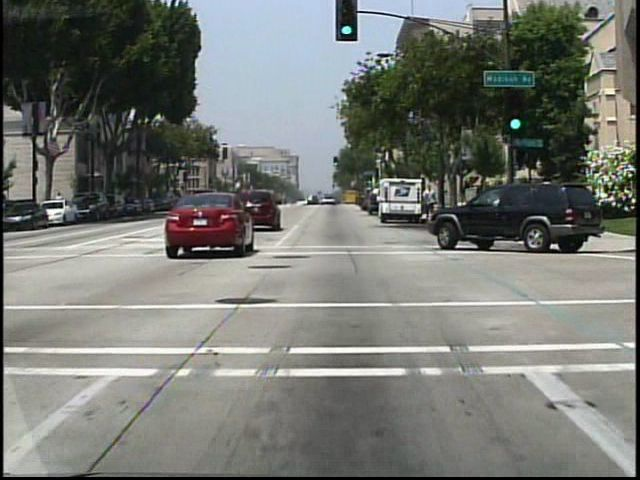person: (422, 184, 436, 222), (357, 187, 371, 214), (56, 190, 68, 214)
